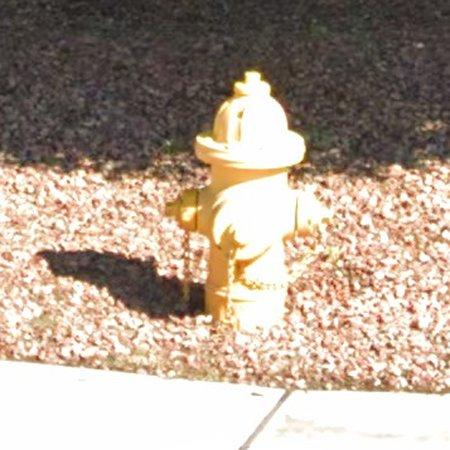a fire hydrant: (169, 71, 330, 333)
